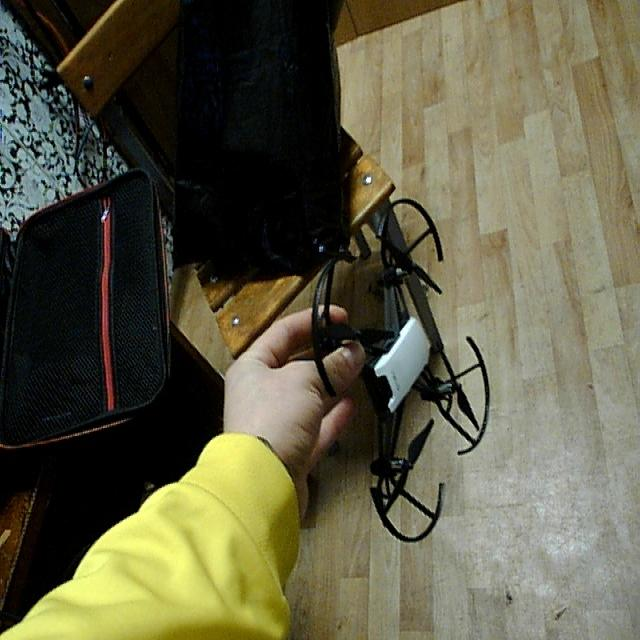drone: (300, 191, 504, 557)
